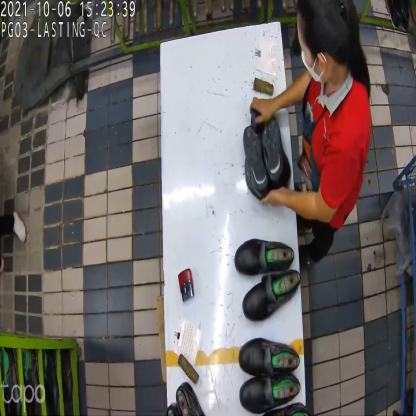shoes: (232, 234, 300, 324), (237, 335, 300, 416), (243, 115, 291, 208)
stamp: (250, 93, 270, 132), (178, 271, 197, 303)
